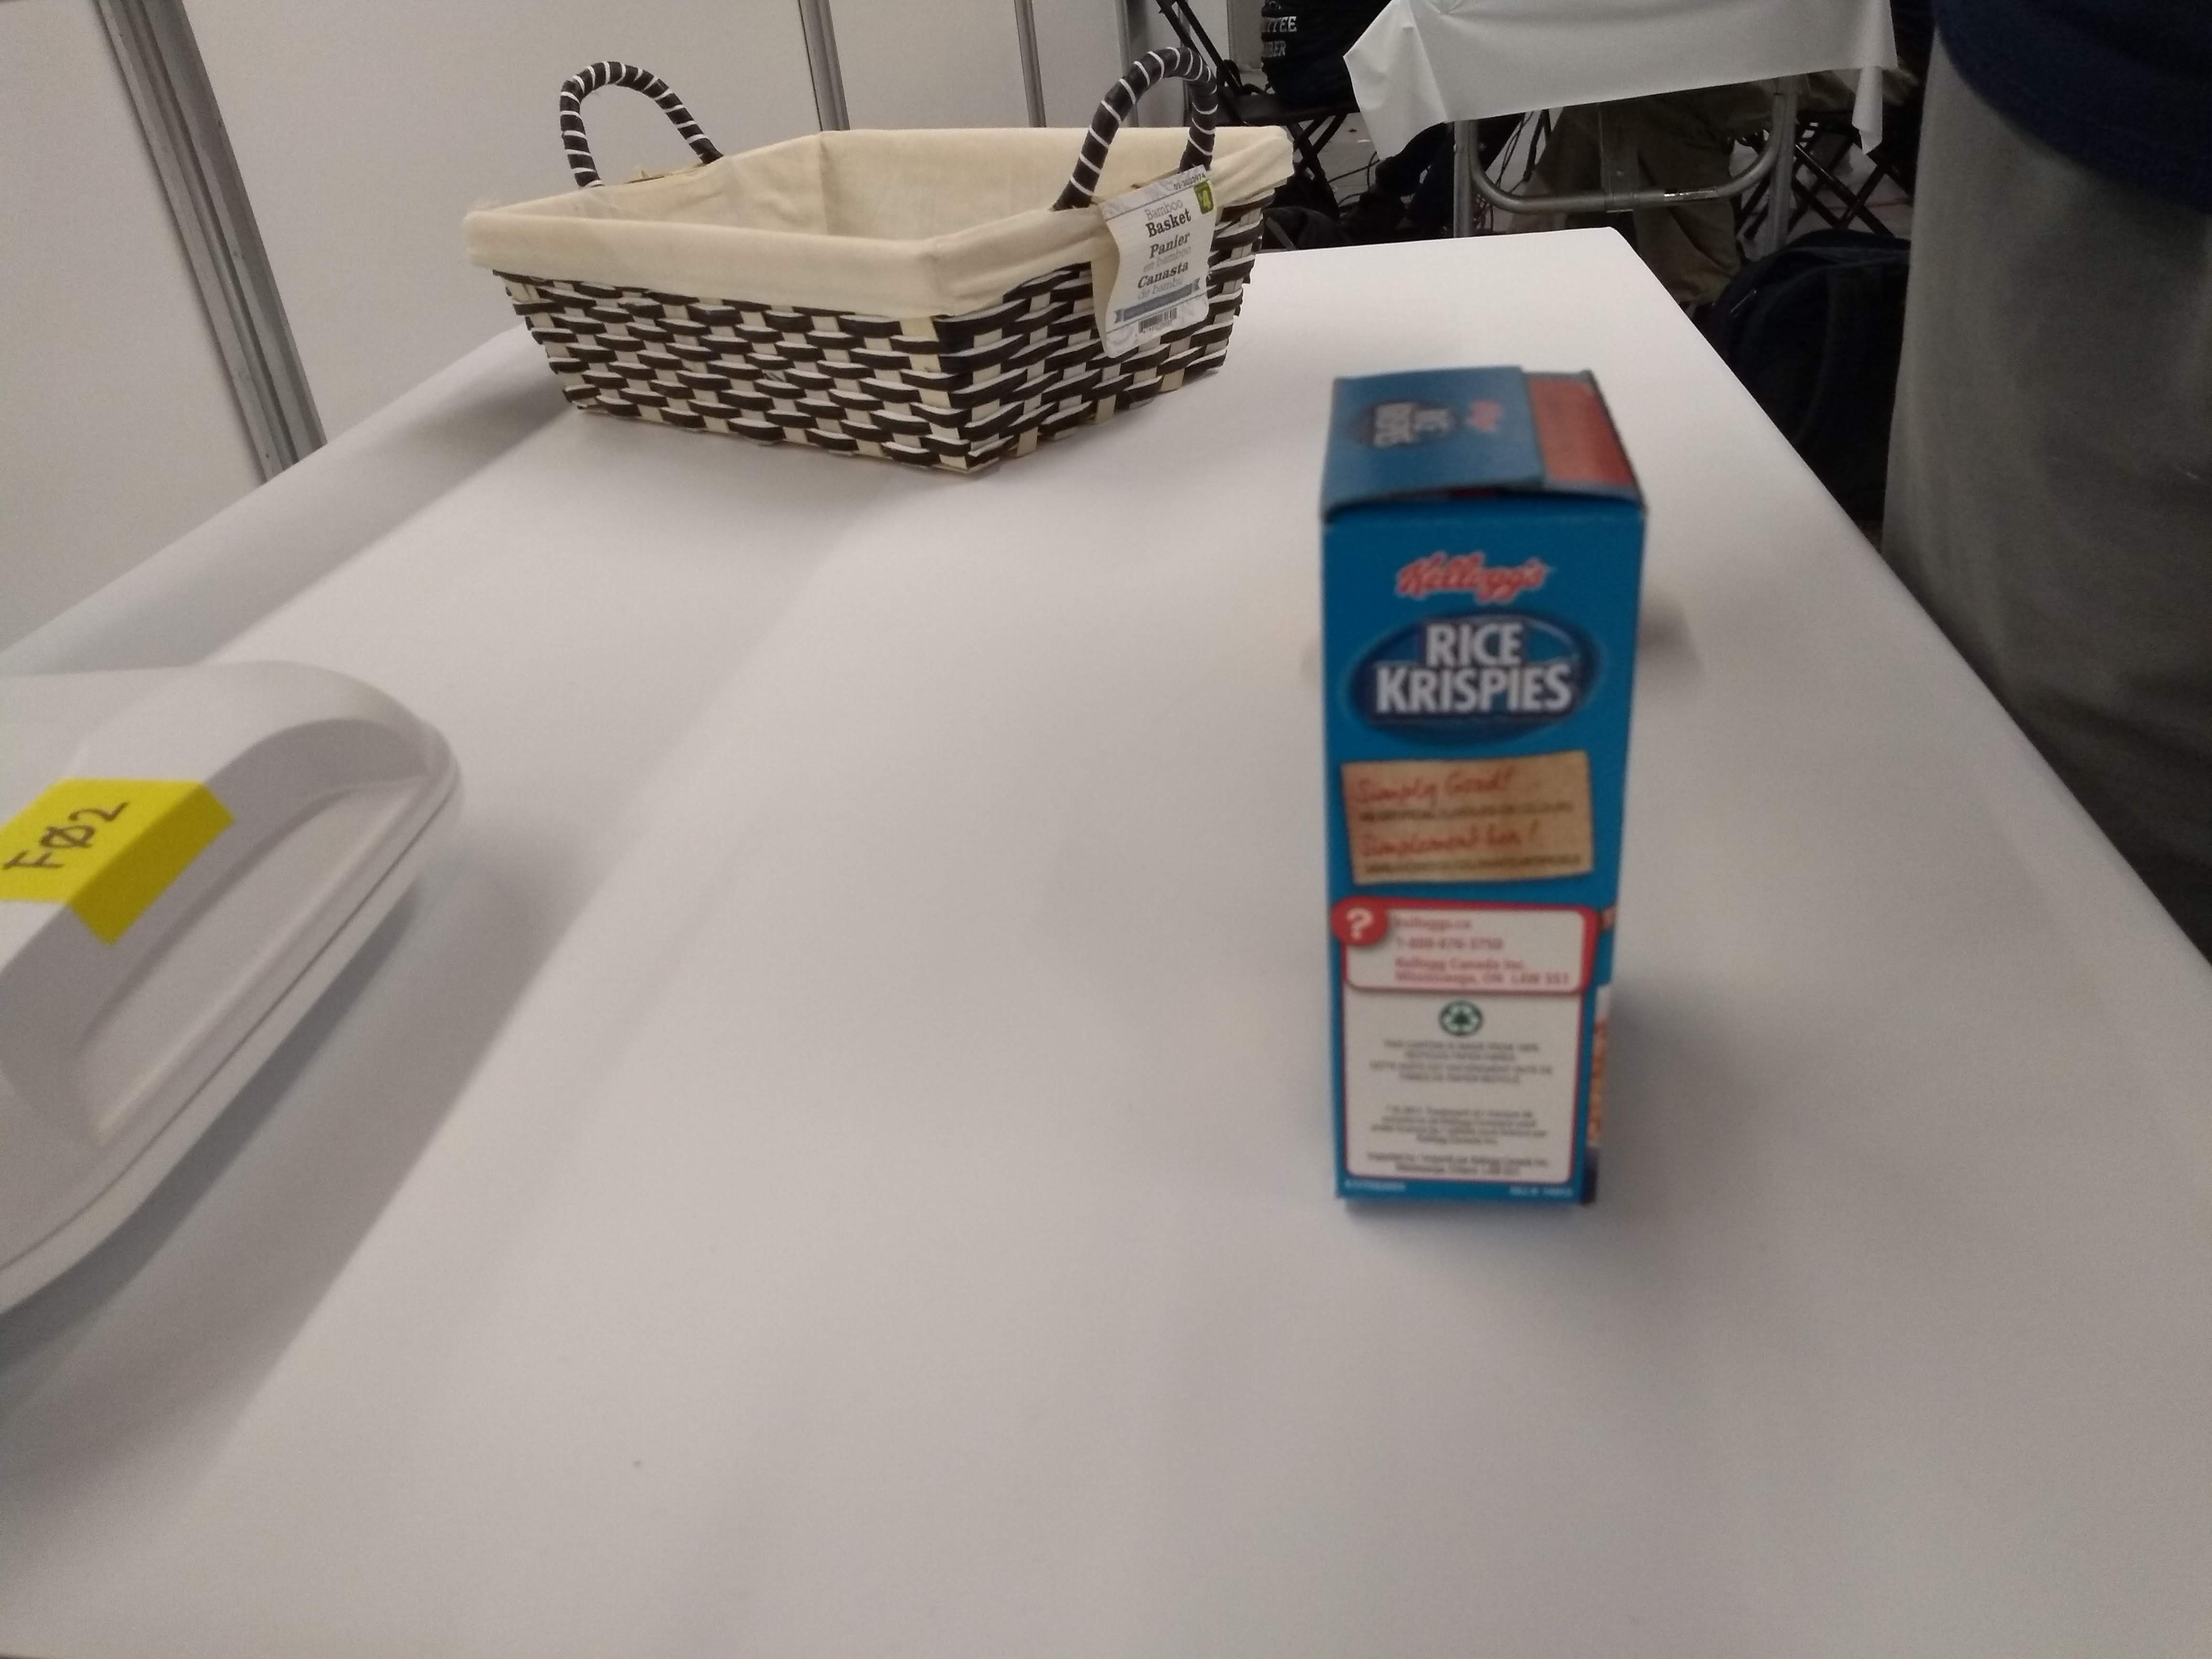basket: (451, 26, 1303, 507)
cereal: (1292, 359, 1669, 1218)
